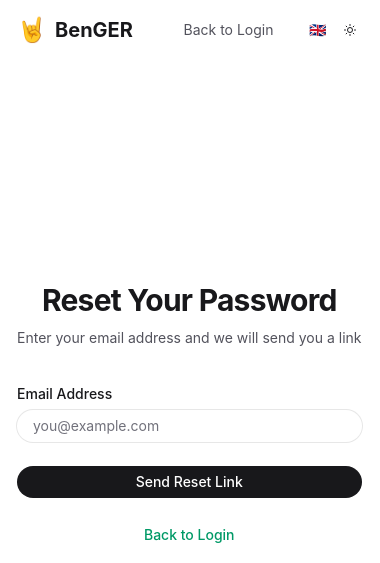
Test: Reset Password Page › Form Submission › shows loading state during submission
The image size is (380, 563).
Step 1. Type "test@example.com" into the field labelled "Email Address" → (189, 426), box [17,410,362,442]
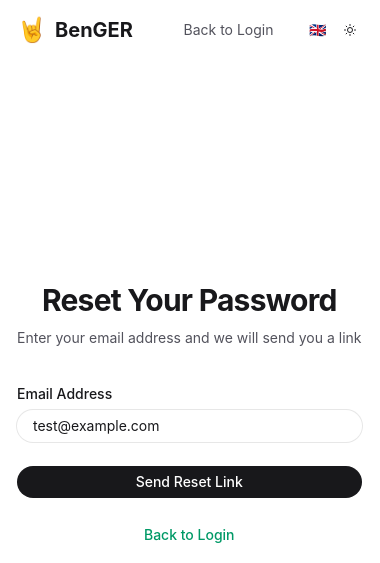
Step 2. Submit the form "Email Address Send Reset Link Back to Login", box [17,382,362,546]
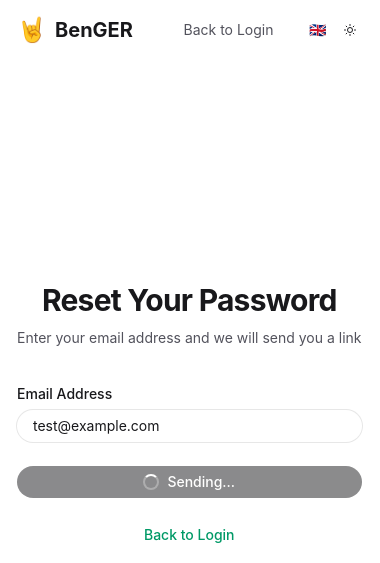
Now the text "Sending..." is shown, box [143,473,235,490]
